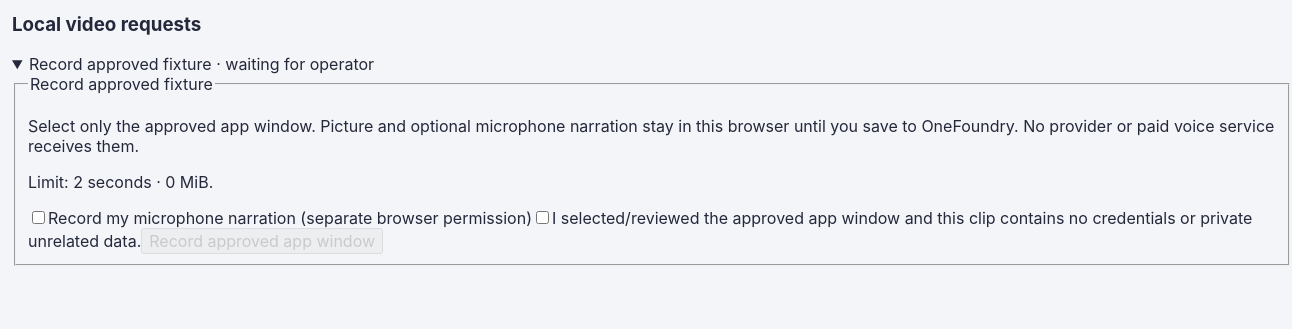
rejects whole-screen selection and stops its capture tracks
This screenshot has width=1292, height=329.
expect the button "Record approved app window" is shown: met, box [141,228,383,254]
Click the checkbox labelled "I selected/reviewed".
click(542, 218)  # box [536,211,549,224]
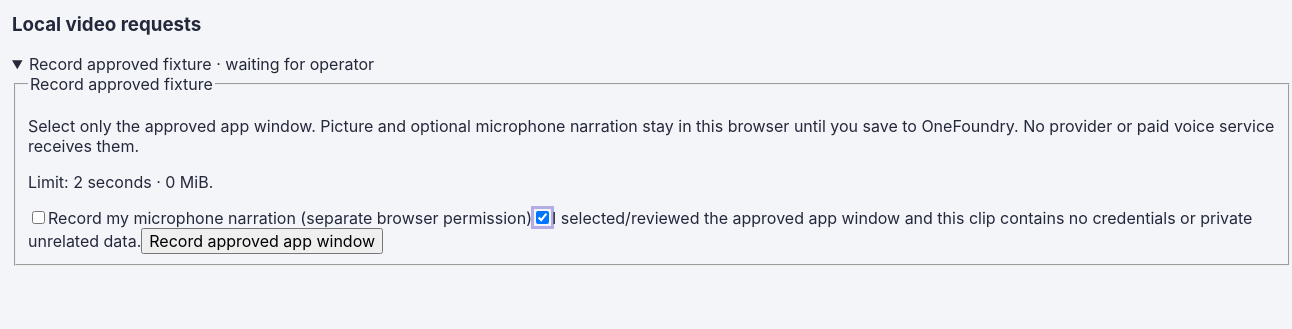
Click the button "Record approved app window".
click(262, 241)  # box [141,228,383,254]
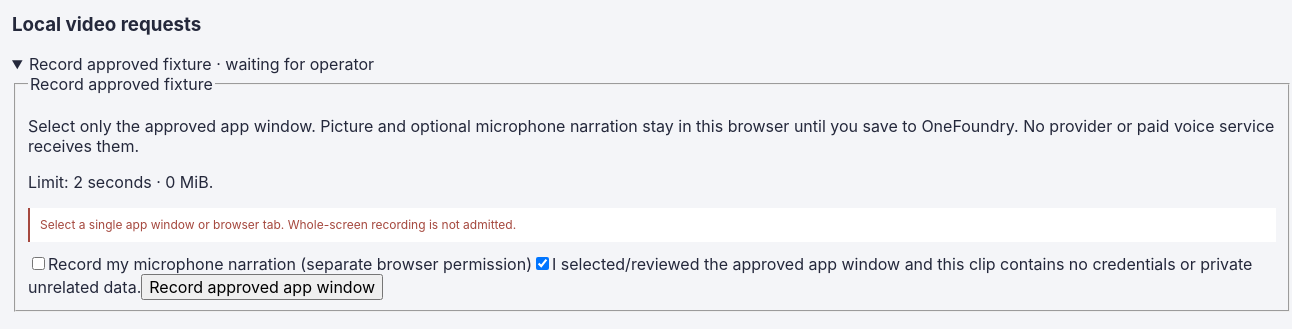
expect the message shows "Whole-screen recording is not admitted": met, box [40,217,516,232]
